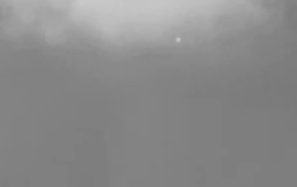Target: (177, 39, 180, 42)
